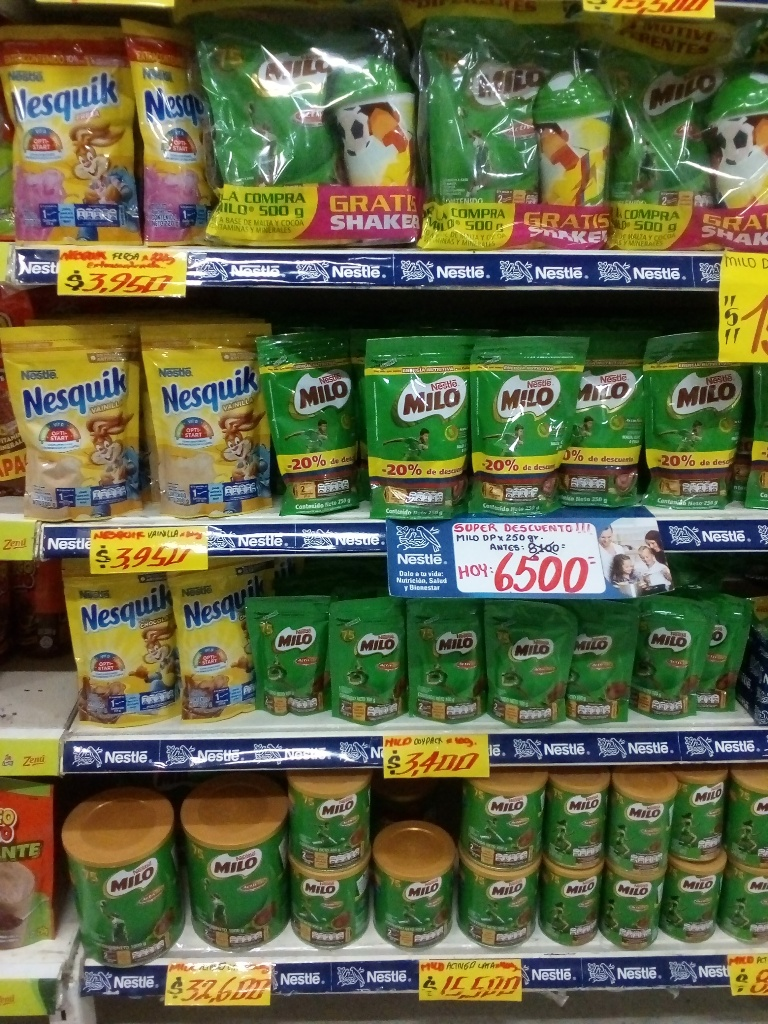COL0170102DYP25000: (0, 774, 58, 960)
COL0170203DYP10000: (243, 591, 326, 713)
COL0170203DYP25000: (265, 324, 365, 512)
COL0170203DYP50000: (195, 13, 355, 244)
COL0170203LAT20000: (544, 775, 604, 866)
COL0170203LAT40000: (296, 777, 368, 869)
COL0170303DYP20000: (61, 561, 179, 721)
COL0170305DYP20000: (4, 24, 138, 235)
COL0170306DYP20000: (4, 316, 138, 518)
